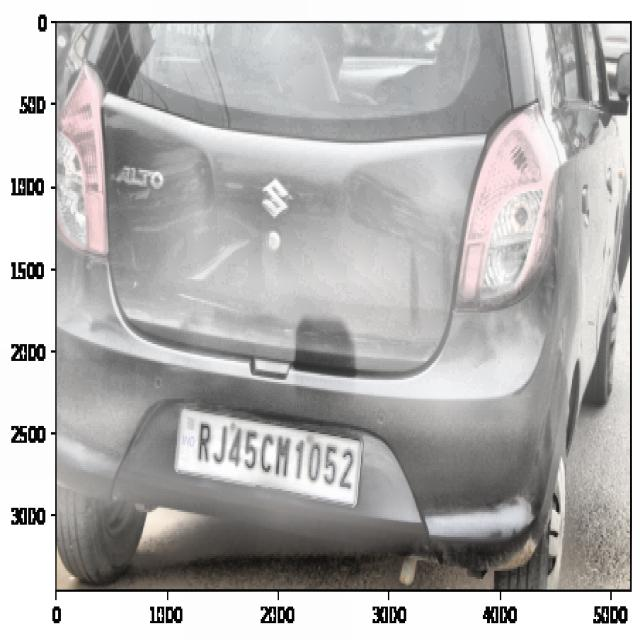license_plate: (190, 416, 360, 495)
